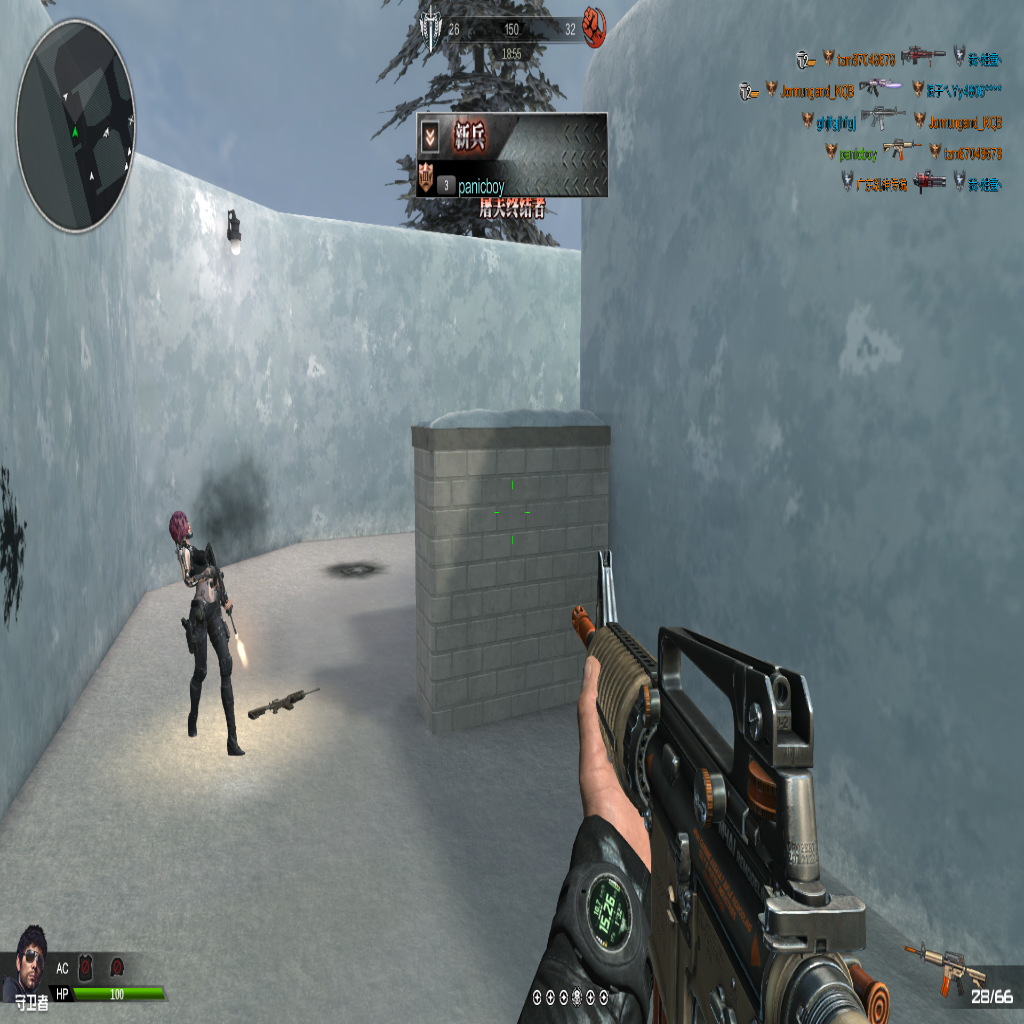ct: (179, 512, 244, 746)
